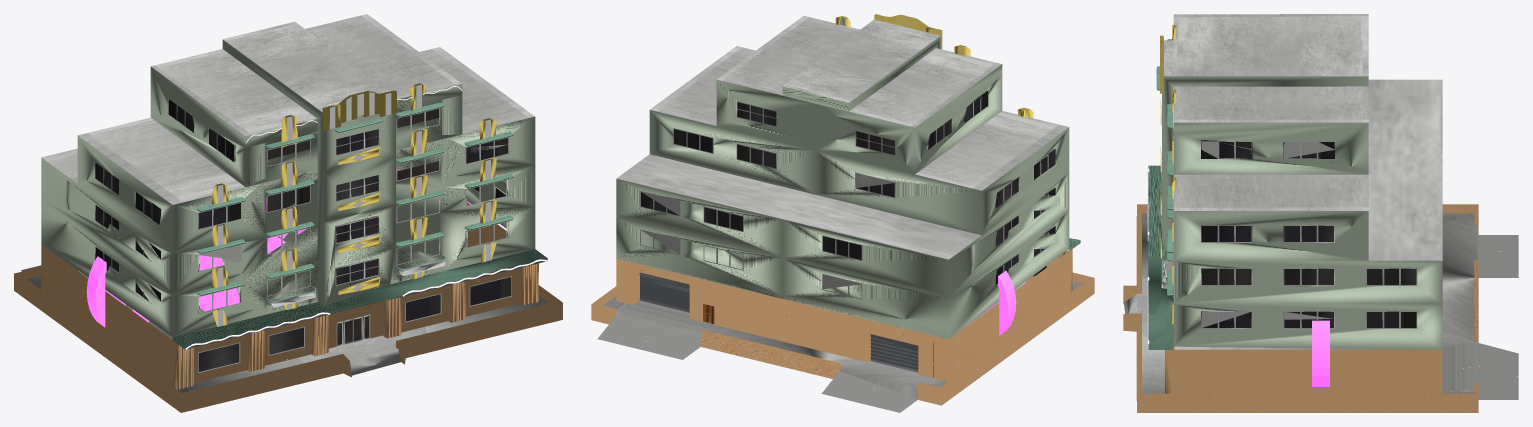
File: vegas_casino.glb
3 renders of one model, left to right at view 1: azimuth 30°, elevation 25°; view 2: azimuth 150°, elevation 25°; view 3: azimuth 270°, elevation 25°, orthographic. The views are drawn at different scales.
Parts seen in each view (by area): view 1: casino_building, casino_sign; view 2: casino_building, casino_sign; view 3: casino_building, casino_sign.
Part boxes in pixels (x1,y1,x2,y2): casino_building: (14,14,562,412); casino_sign: (86,197,471,327); casino_building: (591,14,1094,412); casino_sign: (963,270,1016,335); casino_building: (1123,14,1518,412); casino_sign: (1312,320,1329,386).
Size of the model in its own units: 3 by 1.98 by 2.62.
20 materials, 18 textured.
